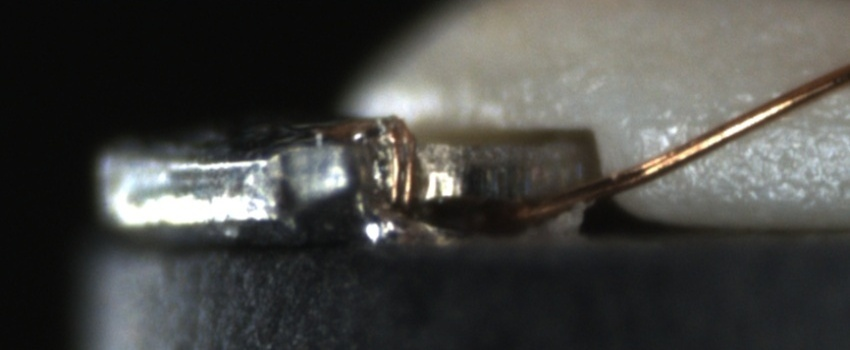DL: (642, 100, 849, 152)
TE: (369, 109, 419, 208)
